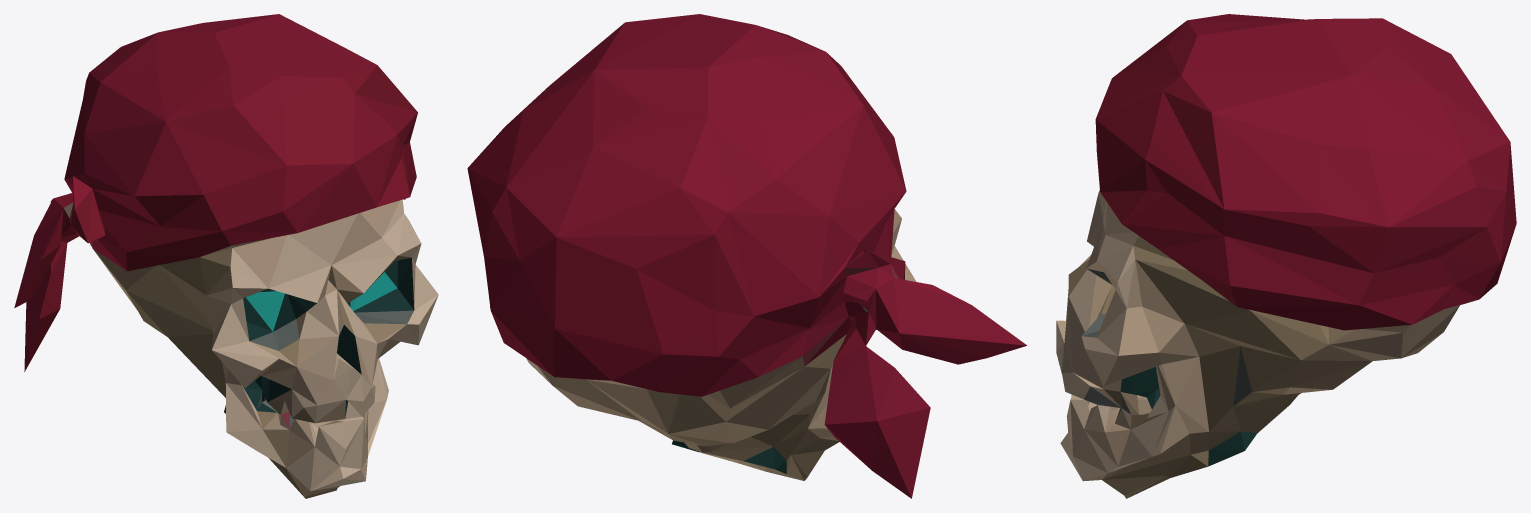
File: sailor-head.glb
3 renders of one model, left to right at view 1: azimuth 30°, elevation 25°; view 2: azimuth 150°, elevation 25°; view 3: azimuth 270°, elevation 25°, orthographic. The views are drawn at different scales.
Parts seen in each view (by area): view 1: sailor-head; view 2: sailor-head; view 3: sailor-head.
Part boxes in pixels (x1,y1,x2,y2): sailor-head: (14,14,438,498); sailor-head: (467,14,1026,498); sailor-head: (1056,14,1516,498).
Size of the model in its own units: 1.03 by 0.9982 by 0.9056.
